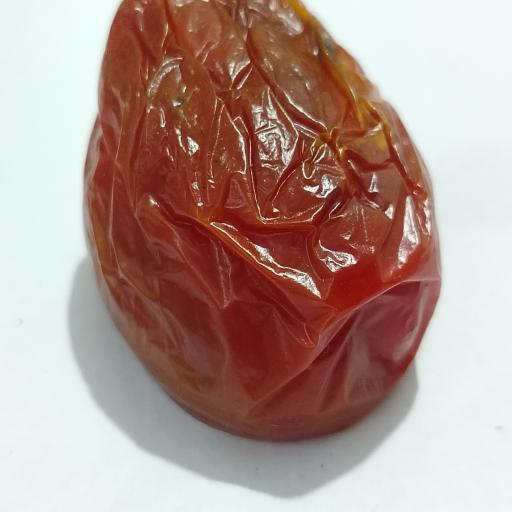spoiled: (85, 0, 440, 439)
